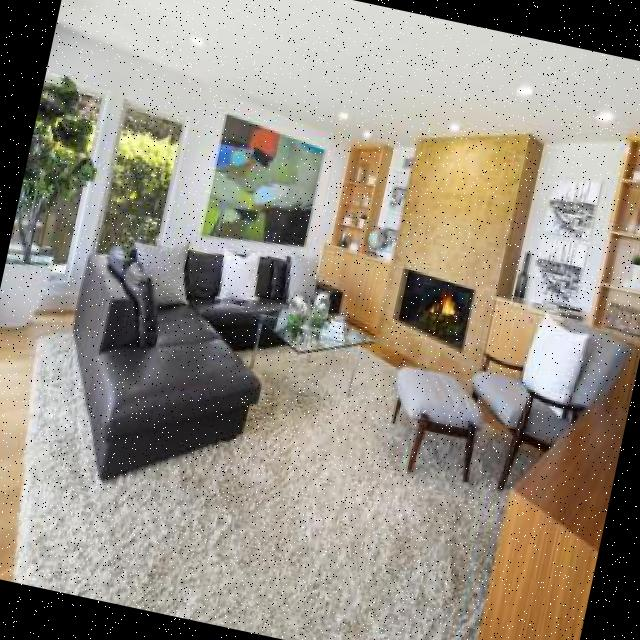fire: (418, 284, 469, 322)
